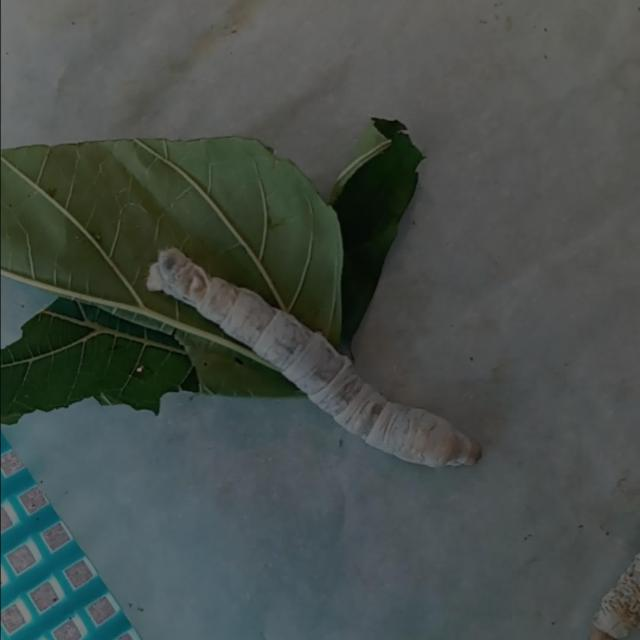Grasserie: (129, 218, 495, 484)
